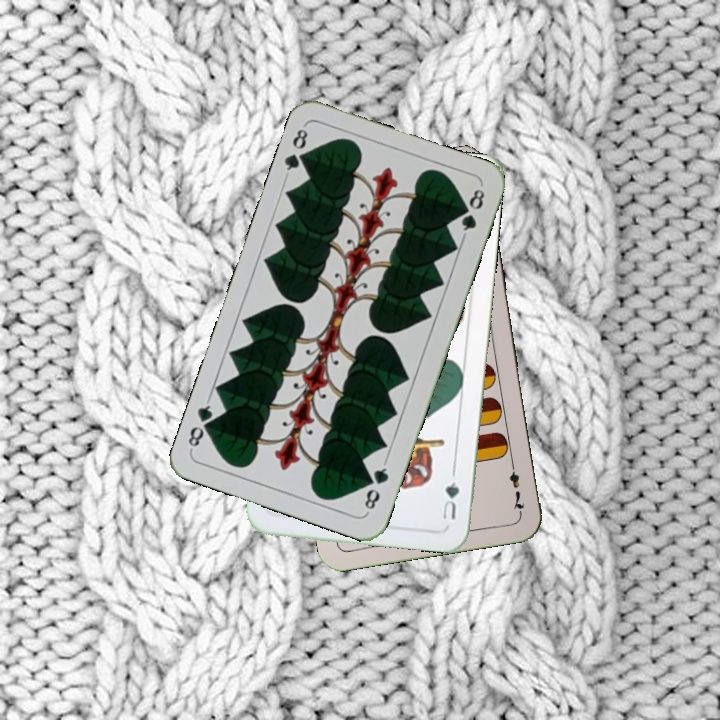E7: (505, 457, 528, 516)
G8: (360, 458, 392, 515), (280, 124, 313, 179)
GU: (438, 477, 462, 523)
